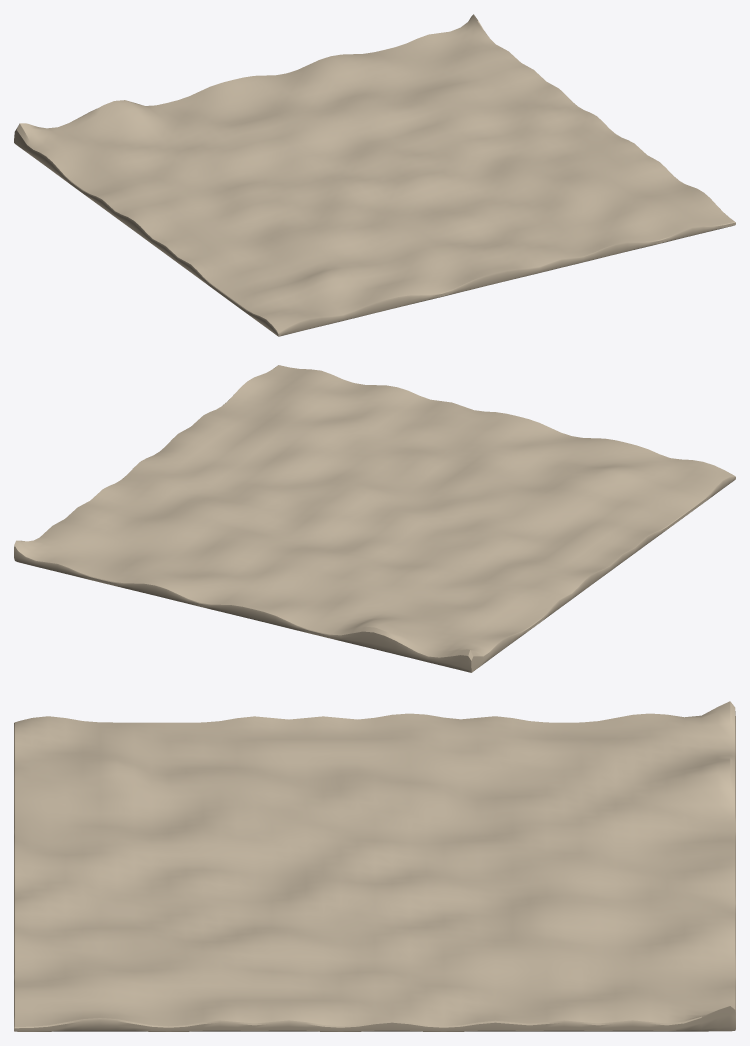
The model's file is ground3.glb.
The picture shows the model from 3 angles, top to bottom: view 1: azimuth 30°, elevation 25°; view 2: azimuth 150°, elevation 25°; view 3: azimuth 270°, elevation 25°; orthographic projection. The views are drawn at different scales.
Visible parts, largest first — view 1: Plane.002; view 2: Plane.002; view 3: Plane.002.
Boxes of the visible parts, x1=… form: Plane.002: x1=14, y1=14, x2=735, y2=336; Plane.002: x1=14, y1=365, x2=735, y2=672; Plane.002: x1=14, y1=701, x2=735, y2=1031.
Bounding box in the file's own units: 5 × 0.2195 × 5.
